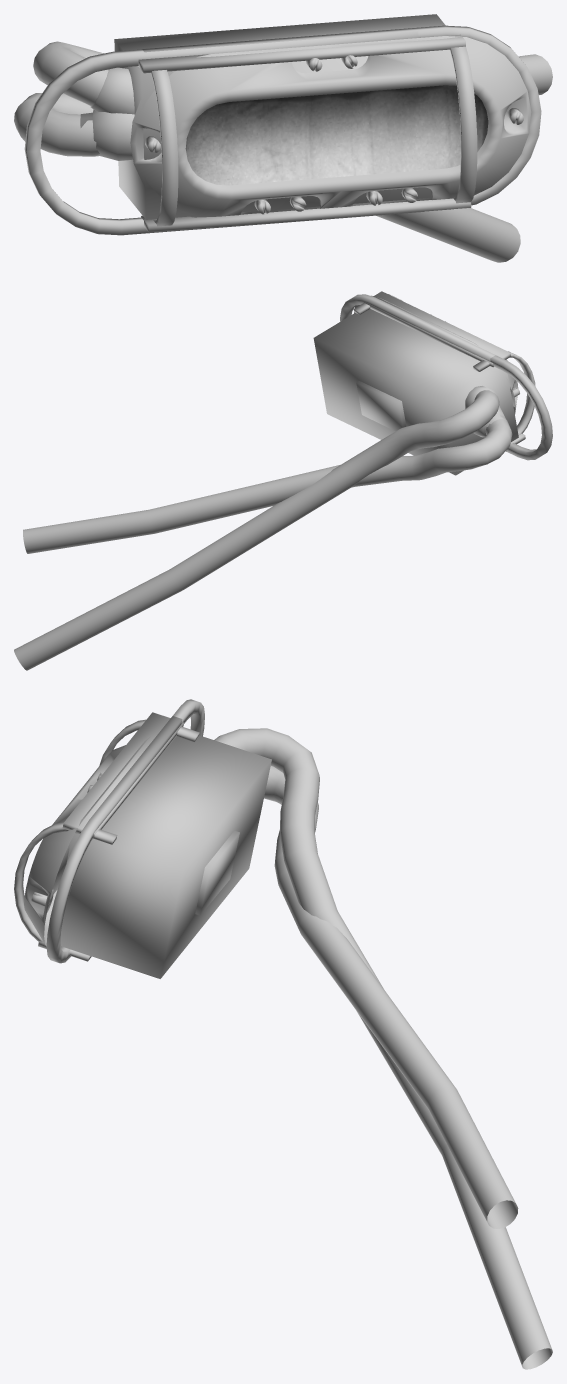
File: SM_BulletCounter_R_00.fbx
3 renders of one model, top to bottom at view 1: azimuth 30°, elevation 25°; view 2: azimuth 150°, elevation 25°; view 3: azimuth 270°, elevation 25°, orthographic. The views are drawn at different scales.
Visible parts, largest first — view 1: SM_BulletCounter_R_00; view 2: SM_BulletCounter_R_00; view 3: SM_BulletCounter_R_00.
Part boxes in pixels (<box>): SM_BulletCounter_R_00: <box>14,14,552,262</box>; SM_BulletCounter_R_00: <box>14,291,552,670</box>; SM_BulletCounter_R_00: <box>14,699,552,1369</box>.
Size of the model in its own units: 621 by 428 by 495.
